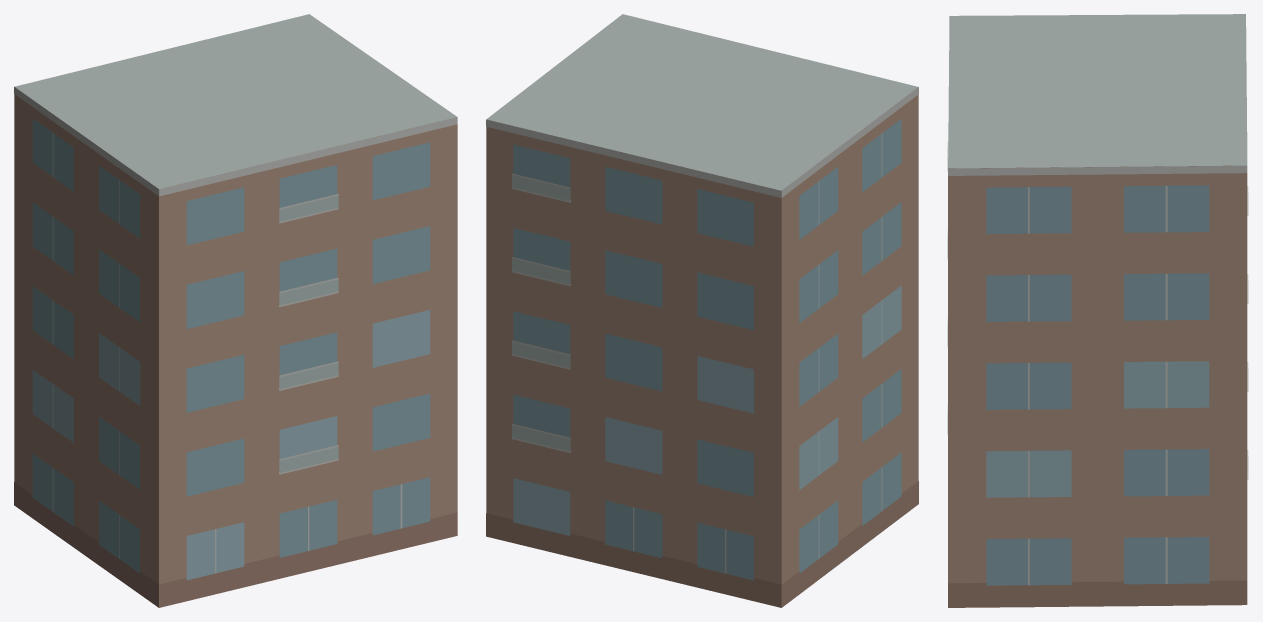
Rendered from survey-upis-32899116.glb.
3 views of the same model, side by side, from view 1: azimuth 30°, elevation 25°; view 2: azimuth 150°, elevation 25°; view 3: azimuth 270°, elevation 25° (orthographic). The views are drawn at different scales.
Visible parts, largest first — view 1: survey-upis-32899116.tmp; view 2: survey-upis-32899116.tmp; view 3: survey-upis-32899116.tmp.
Boxes of the visible parts, x1=… form: survey-upis-32899116.tmp: x1=14, y1=14, x2=457, y2=607; survey-upis-32899116.tmp: x1=486, y1=14, x2=918, y2=607; survey-upis-32899116.tmp: x1=947, y1=14, x2=1248, y2=607.
Bounding box in the file's own units: 10.71 × 14.2 × 8.83.
